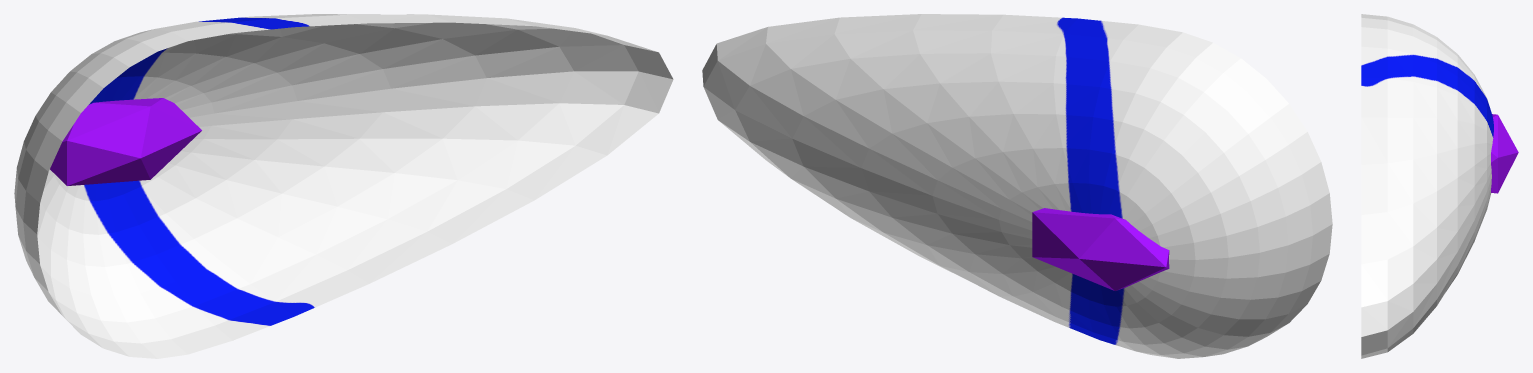
The model's file is InterceptingEnemies.dae.
The picture shows the model from 3 angles, left to right: view 1: azimuth 30°, elevation 25°; view 2: azimuth 150°, elevation 25°; view 3: azimuth 270°, elevation 25°; orthographic projection. The views are drawn at different scales.
Parts seen in each view (by area): view 1: Body, Gem; view 2: Body, Gem; view 3: Body, Gem.
Boxes of the visible parts, <box> form: Body: <box>14,14,673,358</box>; Gem: <box>50,98,201,185</box>; Body: <box>702,14,1332,358</box>; Gem: <box>1032,208,1169,290</box>; Body: <box>1361,14,1493,358</box>; Gem: <box>1491,114,1518,193</box>.
Size of the model in its own units: 4.25 by 1.16 by 2.
Materials: 2 (1 with a texture image).
